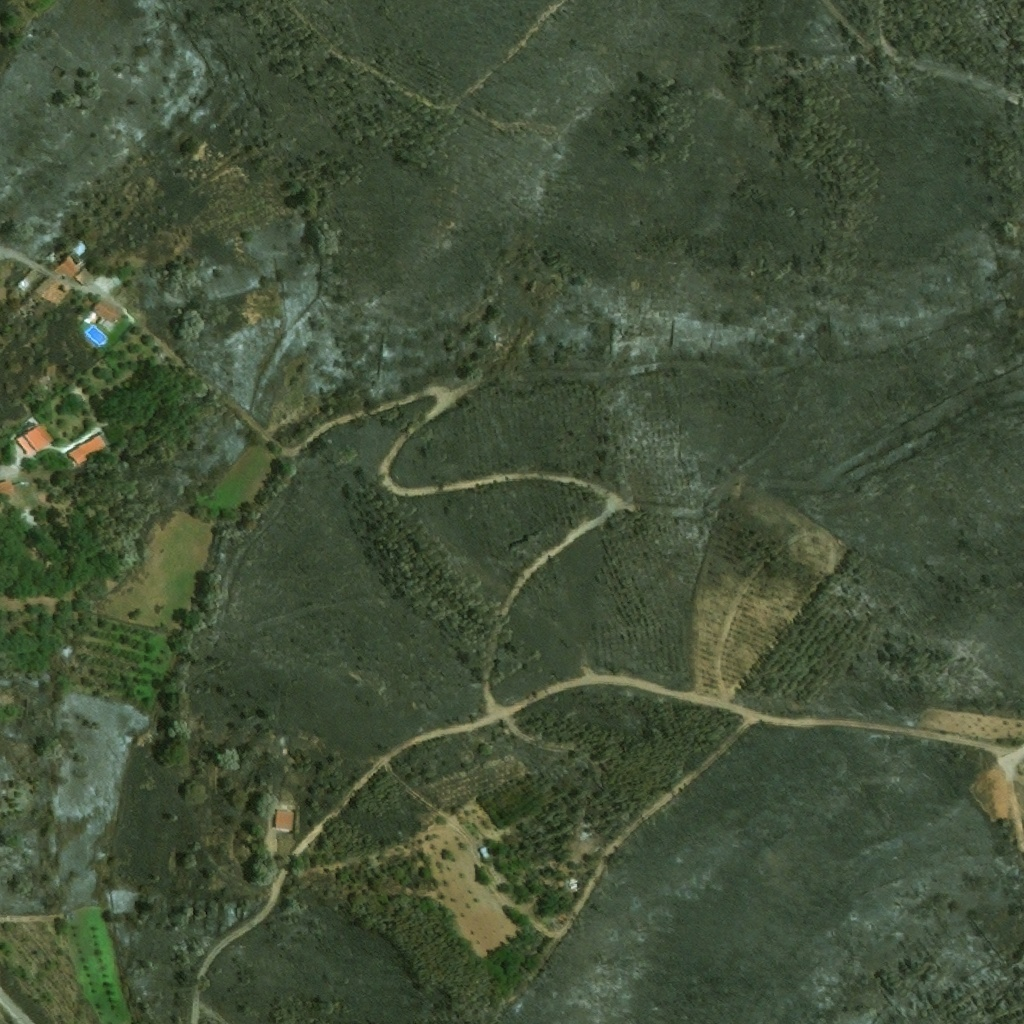0 no-damage: (66, 429, 114, 467), (14, 420, 57, 456), (90, 295, 123, 325), (53, 259, 78, 280), (275, 809, 296, 831), (72, 267, 93, 286), (0, 478, 16, 497), (478, 847, 489, 860)
2 major-damage: (36, 275, 70, 306), (67, 239, 86, 258)
3 destroyed: (9, 293, 45, 329), (15, 269, 39, 292), (45, 251, 59, 265), (43, 367, 52, 377)
